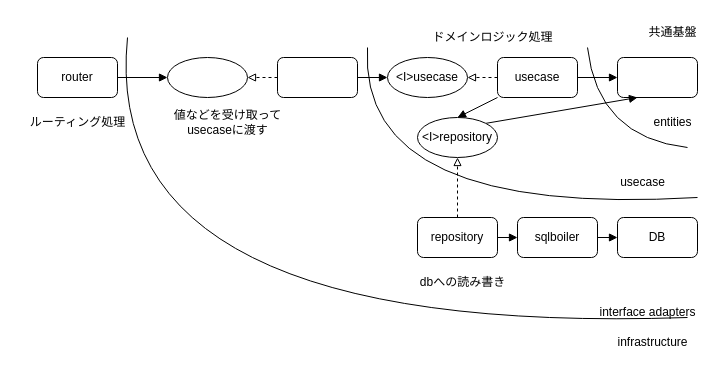
Image size: 724x374. Some labels were removed from this diagram. Here are the shapes that lost their labels. From the top down, the centre of each, then its label:
point (207, 77): <I>controller
point (317, 77): controller
point (657, 77): entity
